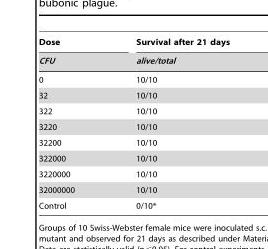table: (37, 37, 229, 209)
table column: (104, 37, 229, 209), (37, 37, 104, 209)
table column header: (37, 37, 229, 70)
table row: (37, 51, 229, 70), (37, 70, 229, 87), (37, 87, 229, 103), (37, 118, 229, 134), (37, 134, 229, 150), (37, 150, 229, 166), (37, 181, 229, 197), (37, 103, 229, 118), (37, 166, 229, 181), (37, 37, 229, 51), (37, 197, 229, 209)
table spanning cell: (104, 37, 229, 70), (37, 37, 104, 70)
